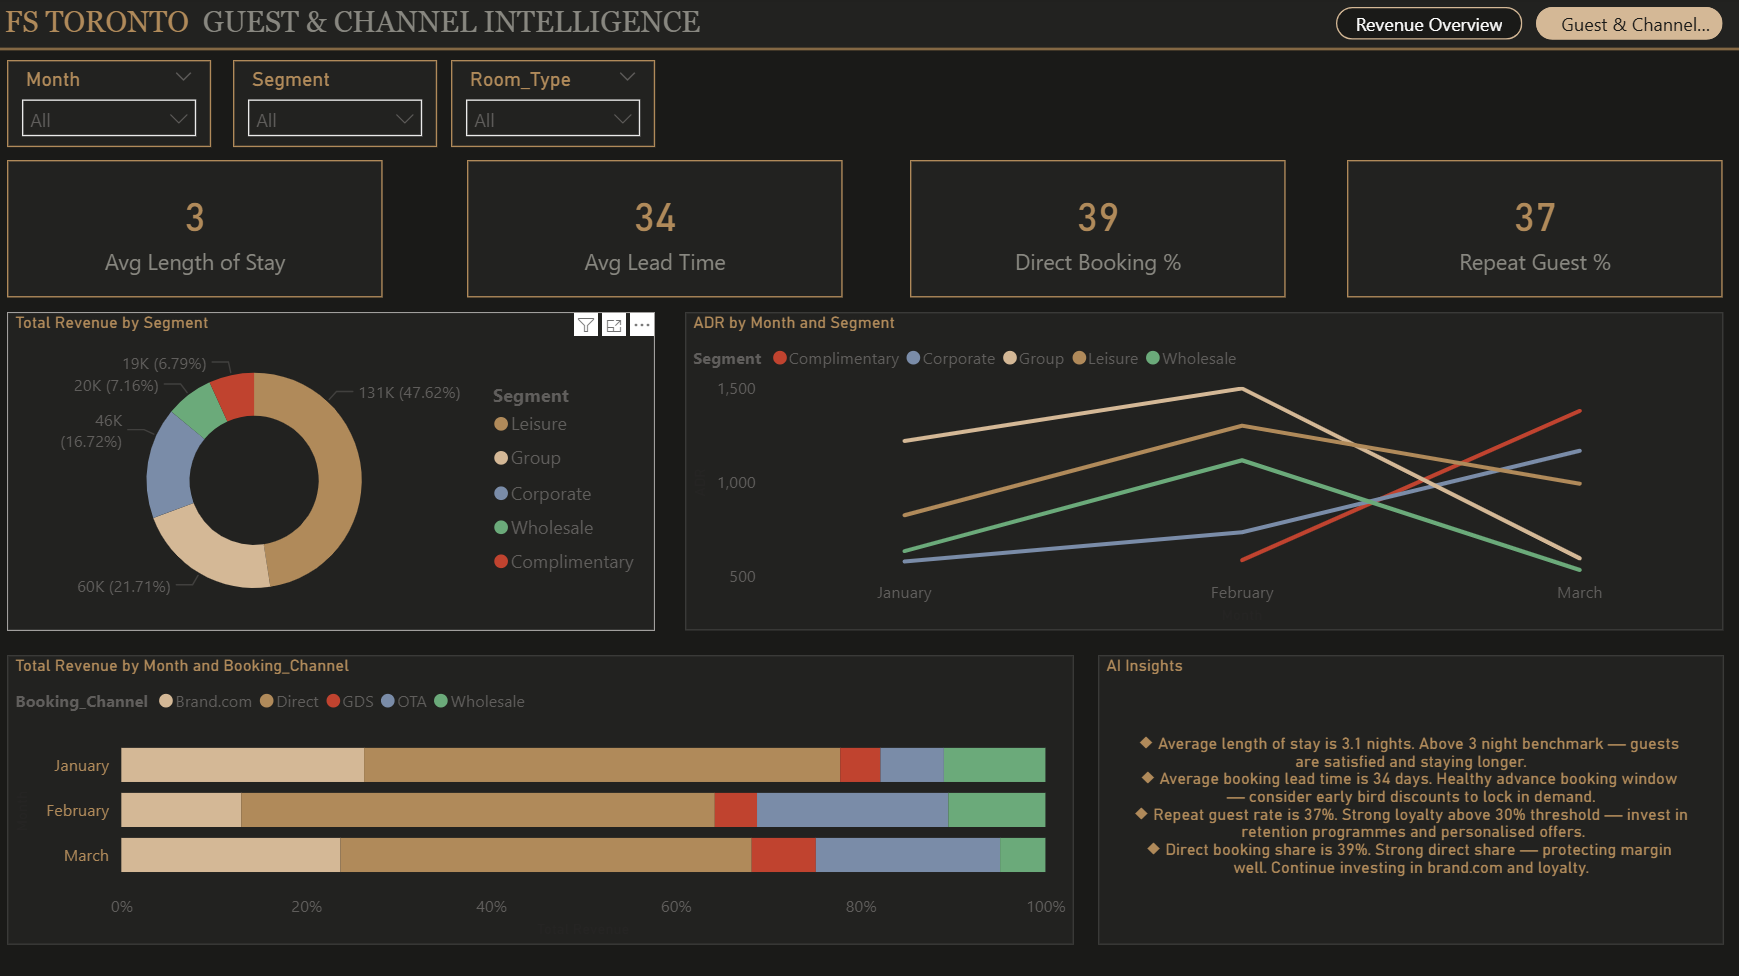

This screenshot's page, from the dashboard's own definition file:
{"tool":"powerbi","page":{"name":"Guest & Channel Intelligence","canvas":[1280,720],"ordinal":1},"visuals":[{"type":"card","fields":{"Values":["HotelBookings.Avg Length of Stay"]},"box":[6.6,119,276.3,100.7],"z":0},{"type":"card","fields":{"Values":["HotelBookings.Repeat Guest %"]},"box":[991.2,119,276.3,100.7],"z":1000},{"type":"card","fields":{"Values":["HotelBookings.Direct Booking %"]},"box":[670.1,119,276.3,100.7],"z":2000},{"type":"card","fields":{"Values":["HotelBookings.Avg Lead Time"]},"box":[344.6,119,276.3,100.7],"z":3000},{"type":"slicer","fields":{"Values":["HotelBookings.Check_In_Date.Variation.Date Hierarchy.Month"]},"box":[6.6,45.6,149.9,63.9],"z":4000},{"type":"slicer","fields":{"Values":["HotelBookings.Segment"]},"box":[172.7,45.6,149.9,63.9],"z":5000},{"type":"slicer","fields":{"Values":["HotelBookings.Room_Type"]},"box":[332.9,45.6,149.9,63.9],"z":6000},{"type":"textbox","box":[0,0,1280,37.5],"z":7000},{"type":"shape","box":[0,19.1,1280,36.7],"z":8000},{"type":"pageNavigator","box":[983.1,6.6,284.4,24.2],"z":9000},{"type":"hundredPercentStackedBarChart","fields":{"Category":["HotelBookings.Check_In_Date.Variation.Date Hierarchy.Month"],"Series":["HotelBookings.Booking_Channel"],"Y":["HotelBookings.Total Revenue"]},"box":[6.6,482.8,784,213.1],"z":10000},{"type":"donutChart","fields":{"Category":["HotelBookings.Segment"],"Y":["HotelBookings.Total Revenue"]},"box":[6.6,230.7,476.1,234.4],"z":11000},{"type":"card","title":"AI Insights","fields":{"Values":["HotelBookings.Insights Page 2"]},"box":[808.3,482.8,460,213.1],"z":12000},{"type":"lineChart","fields":{"Category":["HotelBookings.Check_In_Date.Variation.Date Hierarchy.Month"],"Series":["HotelBookings.Segment"],"Y":["HotelBookings.ADR"]},"box":[504.8,230.7,762.7,234.4],"z":13000}]}

Visuals, with their boxes in screenshot pixels (x1, y1, x2, y2), scaled from the page's 1280x720 canvas onto the 1739x976 screenshot:
card - HotelBookings.Avg Length of Stay: 9:161:384:298
card - HotelBookings.Repeat Guest %: 1347:161:1722:298
card - HotelBookings.Direct Booking %: 910:161:1286:298
card - HotelBookings.Avg Lead Time: 468:161:844:298
slicer - HotelBookings.Check_In_Date.Variation.Date Hierarchy.Month: 9:62:213:148
slicer - HotelBookings.Segment: 235:62:438:148
slicer - HotelBookings.Room_Type: 452:62:656:148
textbox: 0:0:1738:51
shape: 0:26:1738:76
pageNavigator: 1336:9:1722:42
hundredPercentStackedBarChart - HotelBookings.Check_In_Date.Variation.Date Hierarchy.Month x HotelBookings.Booking_Channel: 9:654:1074:943
donutChart - HotelBookings.Segment x HotelBookings.Total Revenue: 9:313:656:630
"AI Insights" card: 1098:654:1723:943
lineChart - HotelBookings.Check_In_Date.Variation.Date Hierarchy.Month x HotelBookings.Segment: 686:313:1722:630
